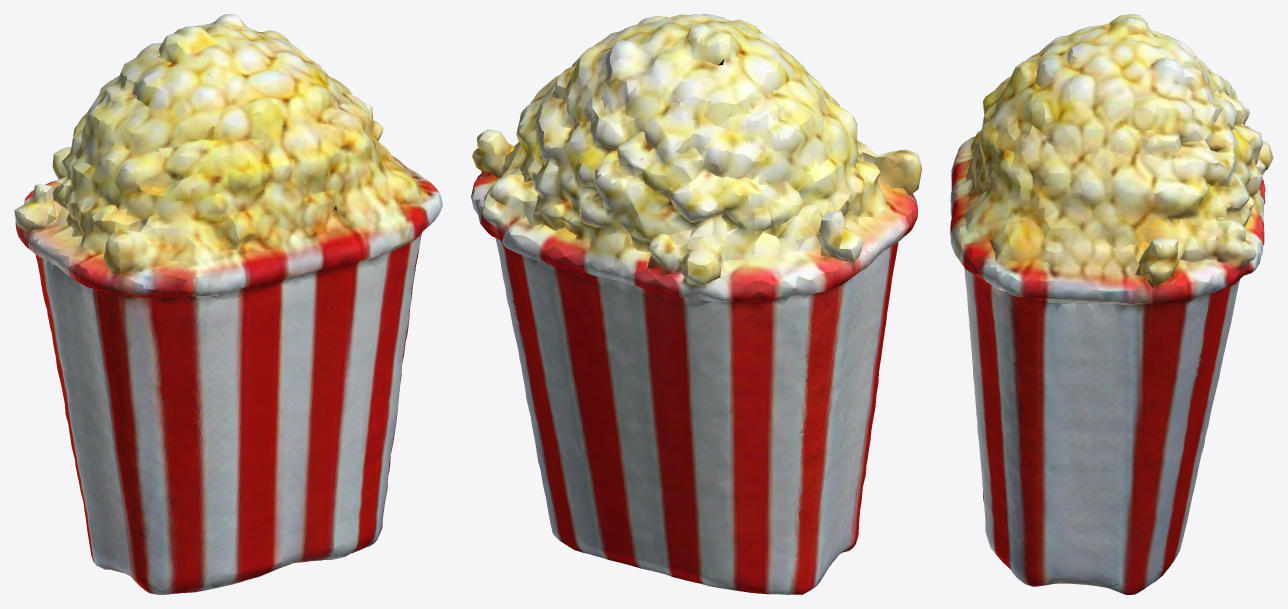
Rendered from popcorn_bucket.glb.
3 renders of one model, left to right at view 1: azimuth 30°, elevation 25°; view 2: azimuth 150°, elevation 25°; view 3: azimuth 270°, elevation 25°, orthographic. The views are drawn at different scales.
Visible parts, largest first — view 1: world; view 2: world; view 3: world.
Boxes of the visible parts, bbox=[...] form: world: bbox=[14, 14, 442, 594]; world: bbox=[471, 14, 921, 594]; world: bbox=[950, 14, 1273, 594].
Bounding box in the file's own units: 0.7403 × 0.9991 × 0.5741.
1 material, 1 textured.
